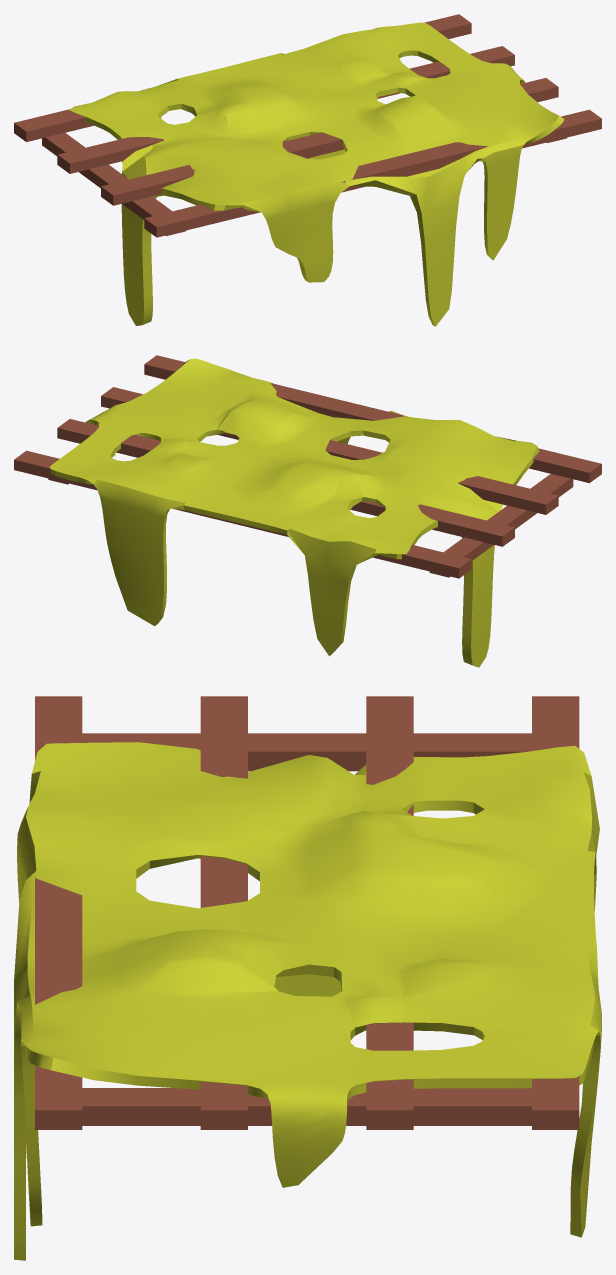
Rendered from pillarroof.fbx.
The picture shows the model from 3 angles, top to bottom: view 1: azimuth 30°, elevation 25°; view 2: azimuth 150°, elevation 25°; view 3: azimuth 270°, elevation 25°; orthographic projection. The views are drawn at different scales.
Parts seen in each view (by area): view 1: Cube.008; view 2: Cube.008; view 3: Cube.008.
Part boxes in pixels (x1,y1,x2,y2): Cube.008: [14, 14, 601, 326]; Cube.008: [14, 355, 601, 667]; Cube.008: [14, 696, 601, 1260].
Bounding box in the file's own units: 4.5 × 1.74 × 2.7.
